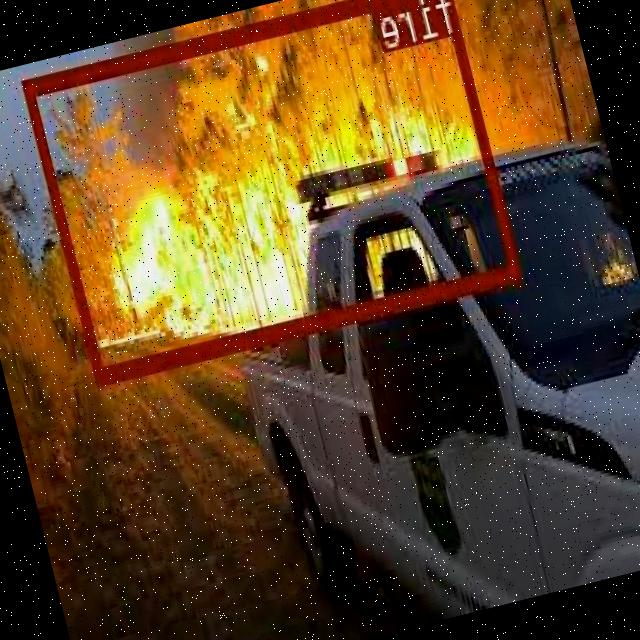fire: (22, 0, 523, 383)
